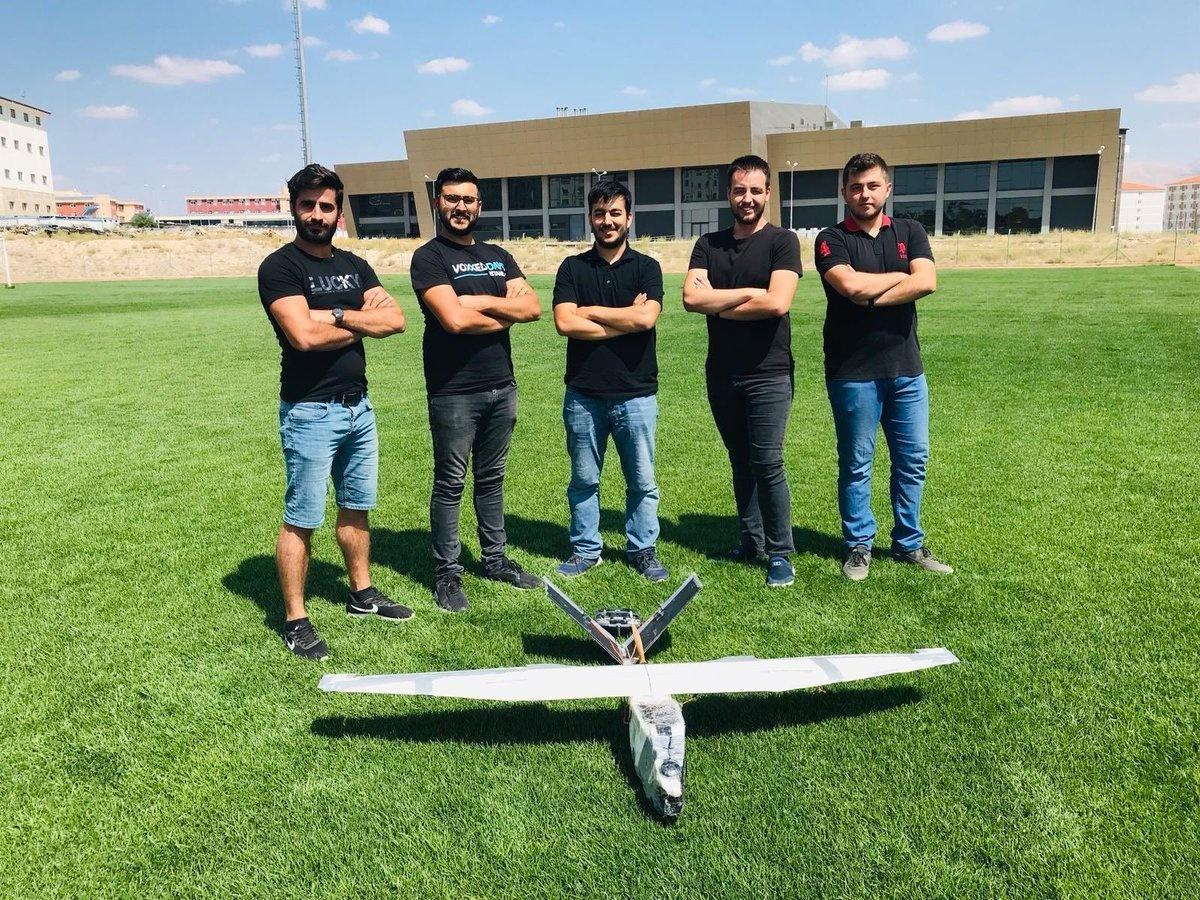Airplane: (317, 573, 961, 818)
